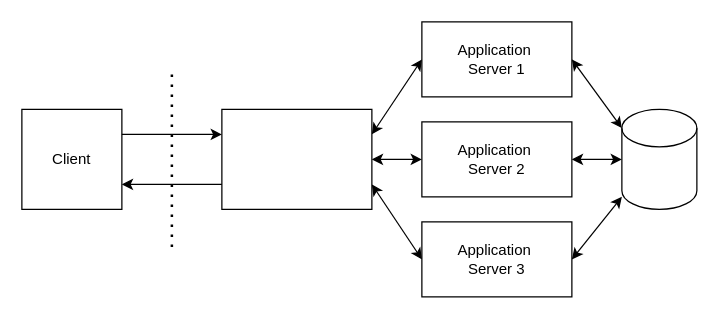
The diagram is 719 pixels wide and 319 high, and some of its shapes have lost their labels. The centre of each missing label's shape, as x and y in pixels:
"DB" goes at (x=659, y=158).
"Reverse Proxy (NGINX)" goes at (x=296, y=158).
